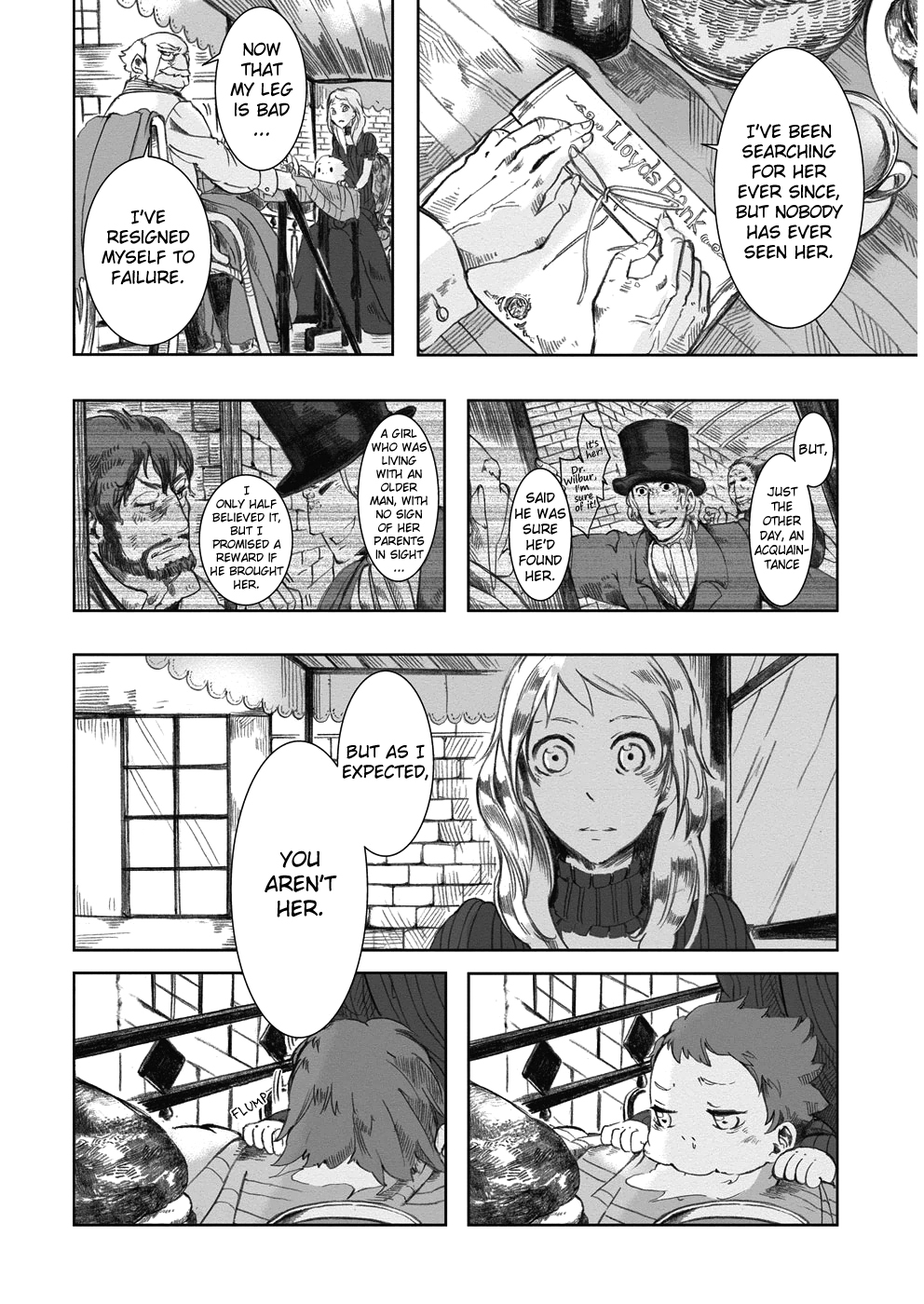bubble: (700, 47, 864, 330), (230, 738, 370, 1038), (81, 141, 213, 346), (338, 669, 435, 857), (202, 5, 306, 171), (358, 414, 438, 583), (198, 475, 295, 605), (748, 453, 816, 606), (507, 467, 572, 602), (793, 412, 835, 487)
